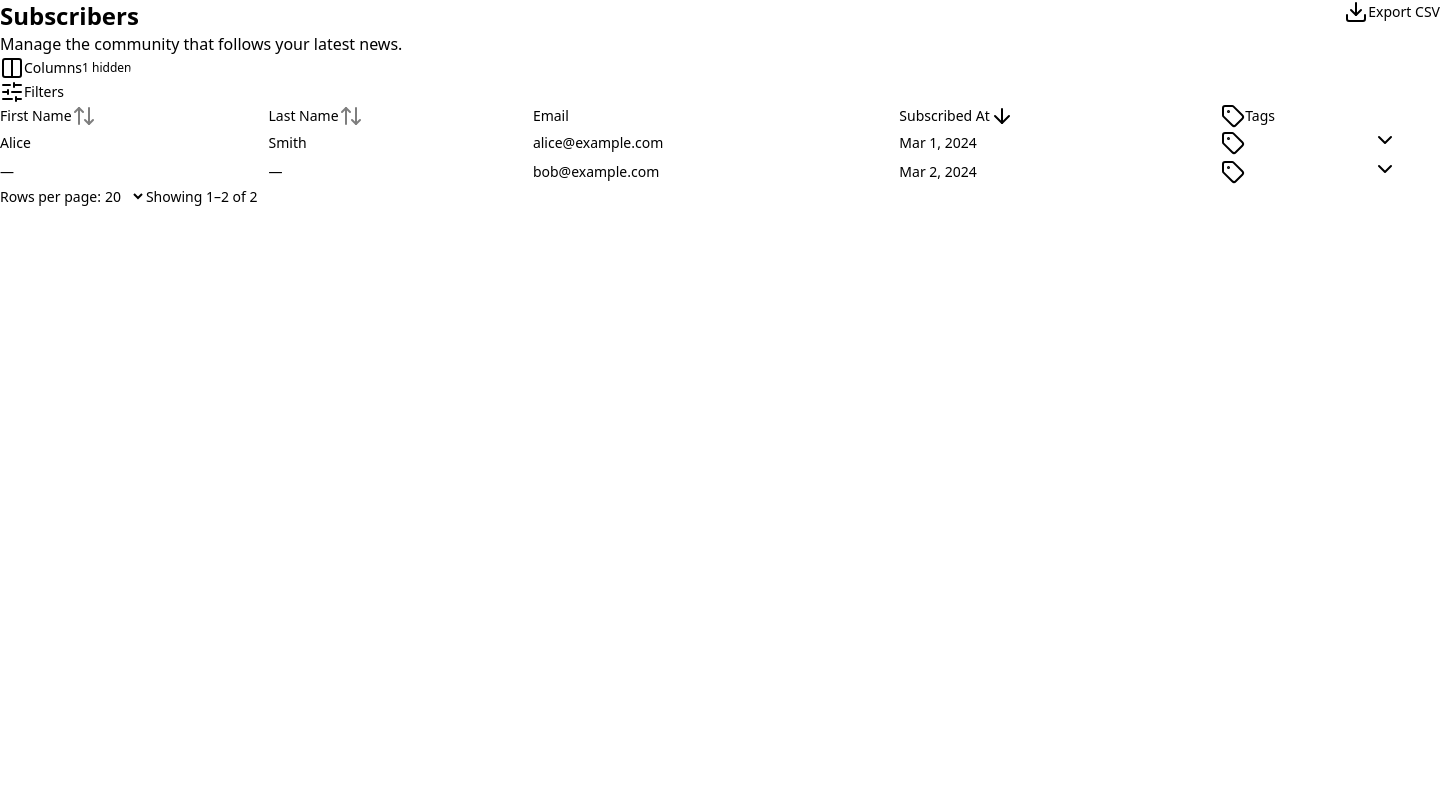
it: SubscribersTable › filter popover › opens the popover and shows filter fields when Filters button is clicked
This screenshot has width=1440, height=810.
Click the button "Filters": {"x": 32, "y": 92} [0,80,64,104]
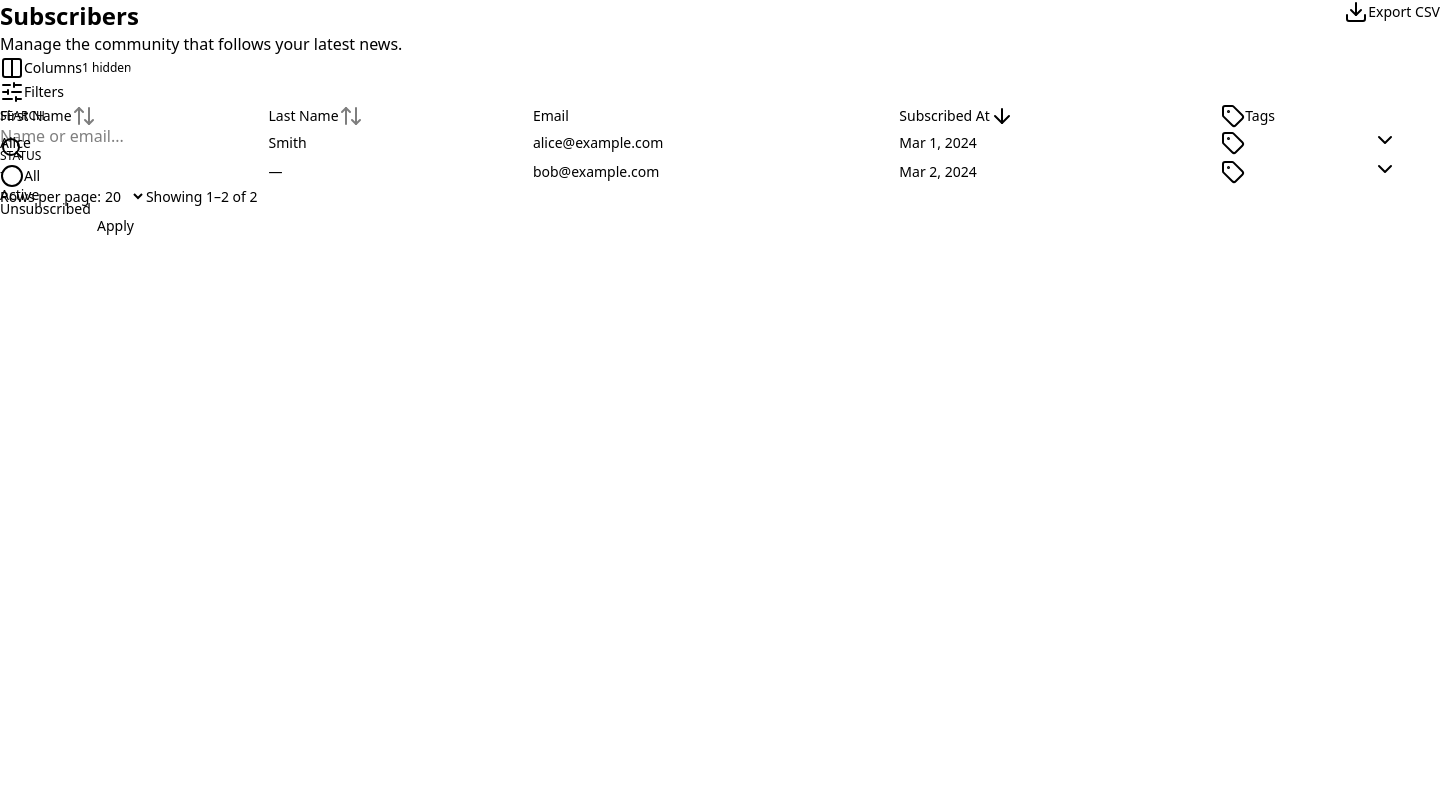
Expected: the field with placeholder "Name or email..." is shown, [0,124,231,148]
Expected: the radio button named "all" is shown, [0,164,24,188]
